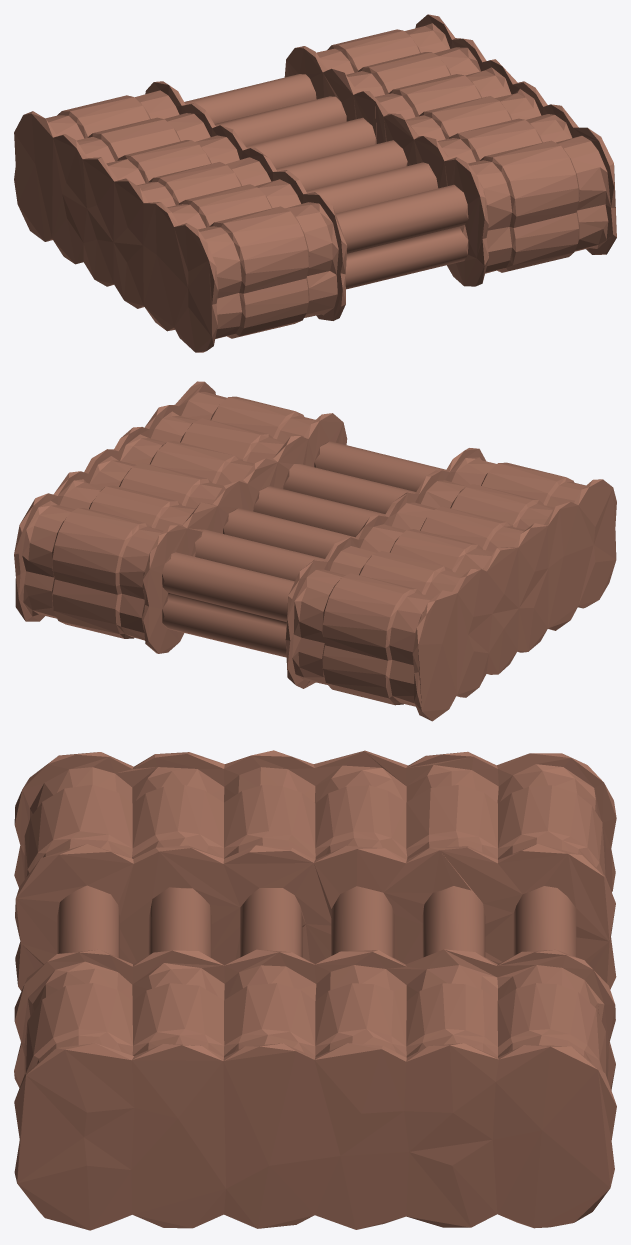
The model's file is industrial_products.fbx.
3 renders of one model, top to bottom at view 1: azimuth 30°, elevation 25°; view 2: azimuth 150°, elevation 25°; view 3: azimuth 270°, elevation 25°, orthographic. The views are drawn at different scales.
Visible parts, largest first — view 1: industrial_products; view 2: industrial_products; view 3: industrial_products.
Part boxes in pixels (bbox=[...]): industrial_products: bbox=[14, 14, 616, 352]; industrial_products: bbox=[14, 381, 616, 721]; industrial_products: bbox=[14, 750, 616, 1230].
Size of the model in its own units: 602 by 177 by 515.
